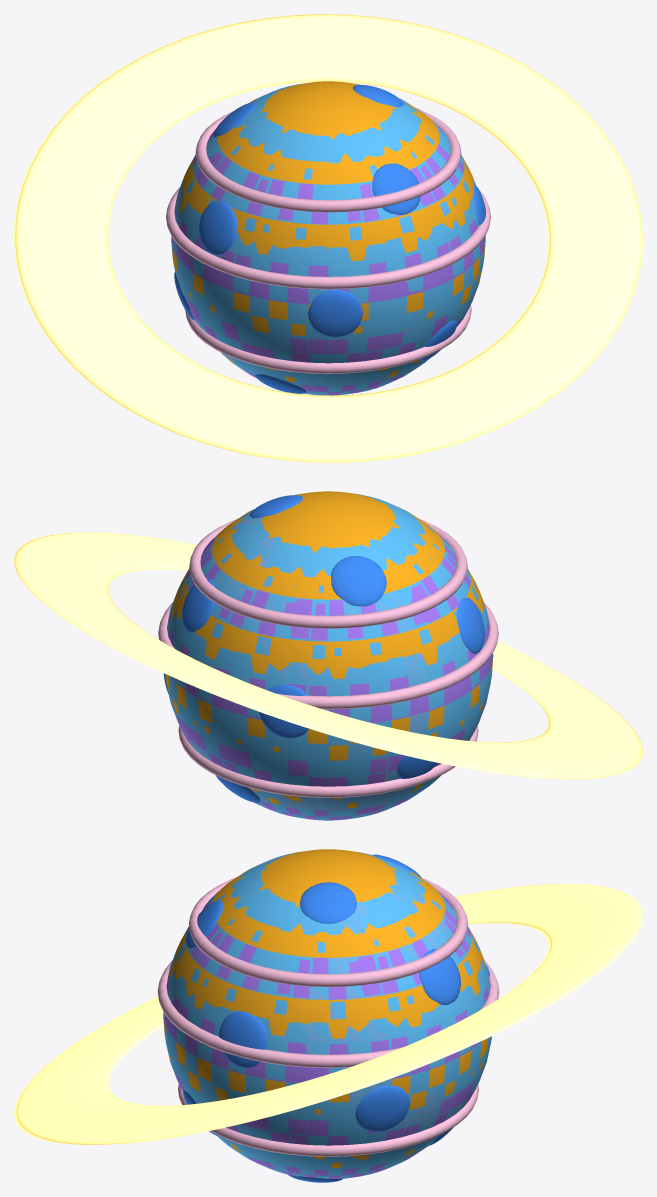
File: kit_galaxy.glb
The picture shows the model from 3 angles, top to bottom: view 1: azimuth 30°, elevation 25°; view 2: azimuth 150°, elevation 25°; view 3: azimuth 270°, elevation 25°; orthographic projection. The views are drawn at different scales.
Parts seen in each view (by area): view 1: planet_ringed_mesh, planet_moon_mesh, planet_gas_mesh; view 2: planet_ringed_mesh, planet_moon_mesh, planet_gas_mesh; view 3: planet_ringed_mesh, planet_moon_mesh, planet_gas_mesh.
Part boxes in pixels (left/top/right/bottom): planet_ringed_mesh: left=14, top=14, right=642, bottom=462; planet_moon_mesh: left=171, top=84, right=485, bottom=395; planet_gas_mesh: left=171, top=81, right=485, bottom=395; planet_ringed_mesh: left=14, top=515, right=642, bottom=810; planet_moon_mesh: left=163, top=493, right=492, bottom=820; planet_gas_mesh: left=166, top=491, right=493, bottom=820; planet_ringed_mesh: left=14, top=877, right=642, bottom=1156; planet_moon_mesh: left=163, top=852, right=491, bottom=1182; planet_gas_mesh: left=163, top=849, right=489, bottom=1178.
Size of the model in its own units: 3.94 by 2 by 3.8.
